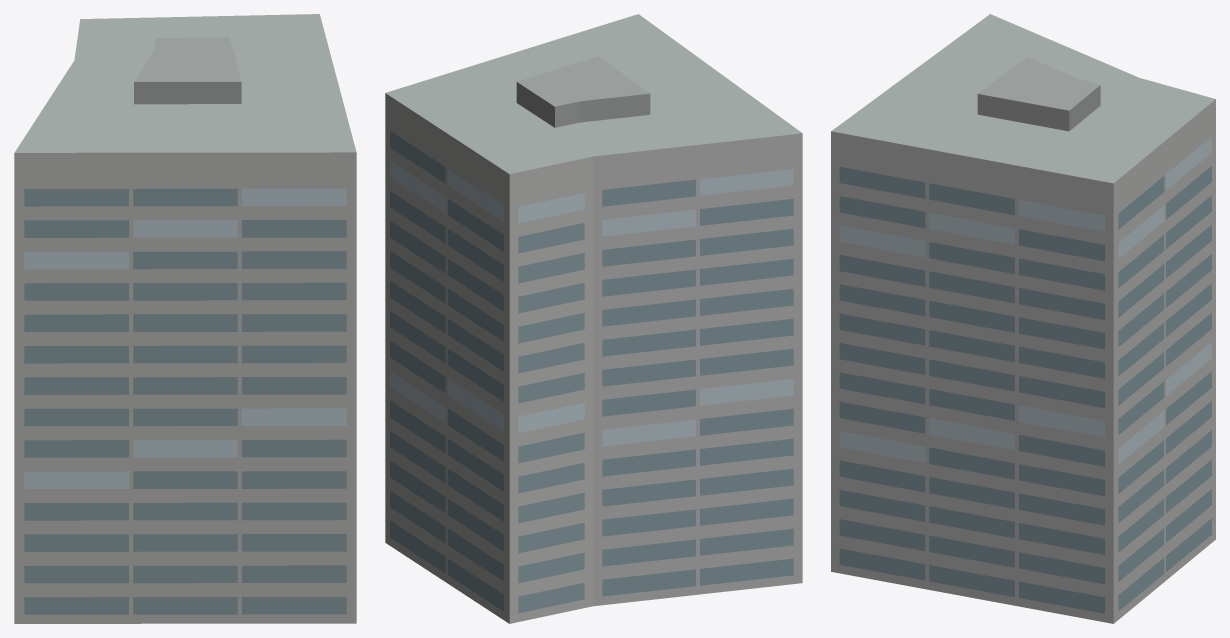
The model's file is apt-a10023670.glb.
The picture shows the model from 3 angles, left to right: view 1: azimuth 30°, elevation 25°; view 2: azimuth 150°, elevation 25°; view 3: azimuth 270°, elevation 25°; orthographic projection. The views are drawn at different scales.
Visible parts, largest first — view 1: apt-a10023670; view 2: apt-a10023670; view 3: apt-a10023670.
Part boxes in pixels (box(x1,y1,x2,y2)): apt-a10023670: box(14, 14, 356, 623); apt-a10023670: box(385, 14, 802, 623); apt-a10023670: box(831, 14, 1215, 623).
Size of the model in its own units: 35.46 by 45 by 34.02.
